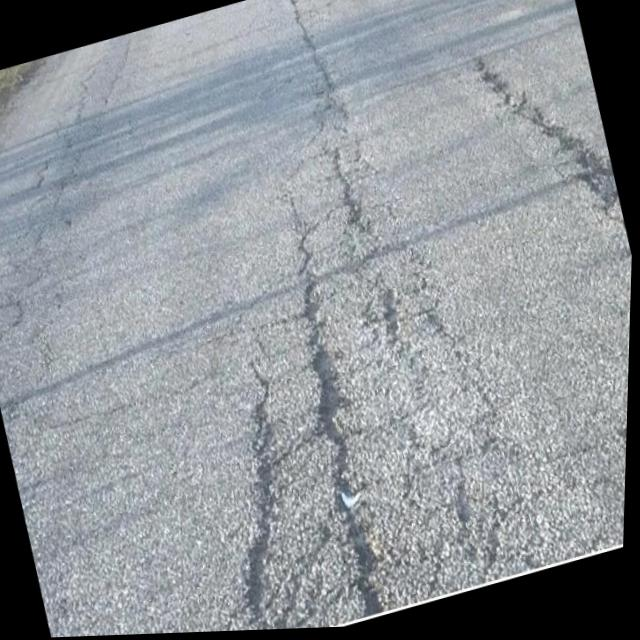Crack: (288, 326, 422, 603), (288, 30, 399, 264), (458, 33, 593, 195), (269, 218, 372, 400)
